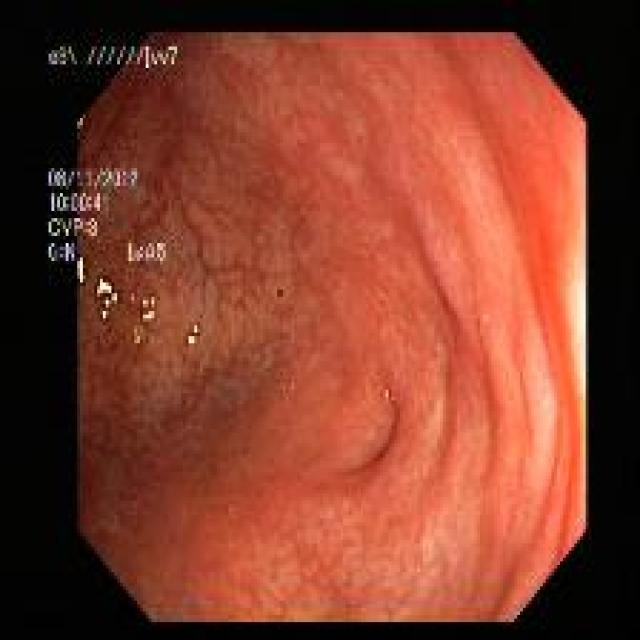ulcerative-colitis: (55, 33, 586, 621)
